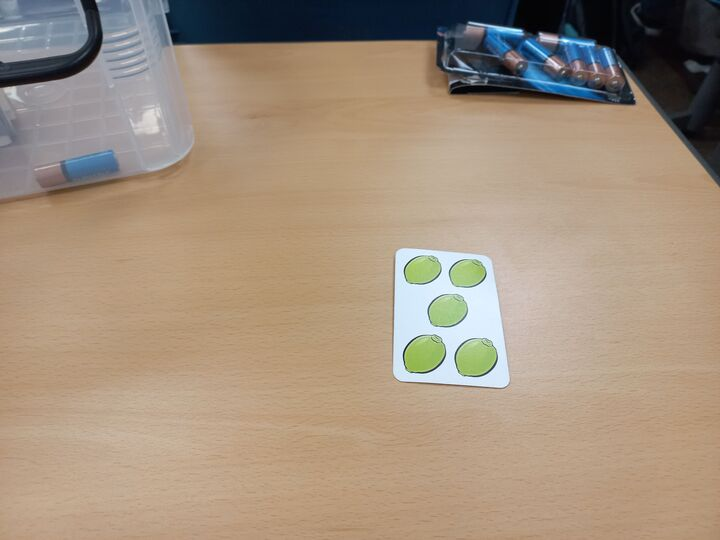lime5: (390, 245, 513, 388)
